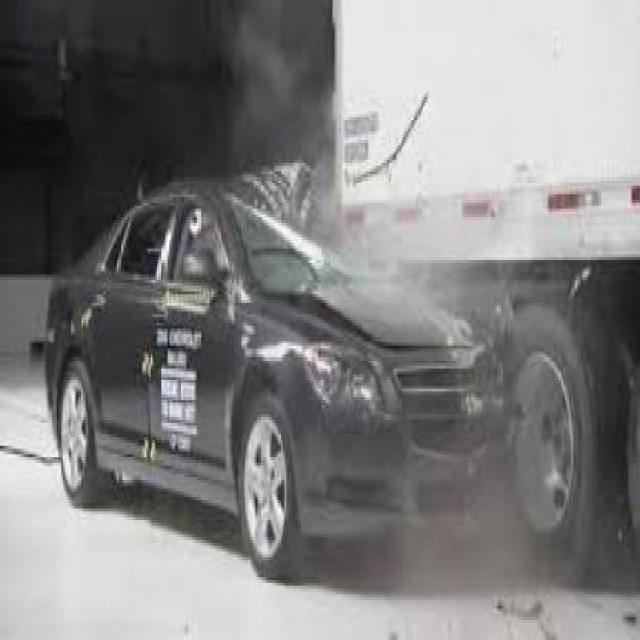accident: (29, 71, 629, 592)
